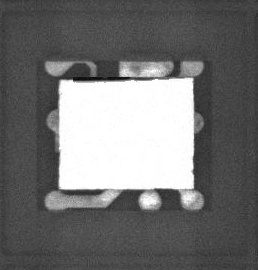DIE_BROKEN: (72, 74, 168, 83)
